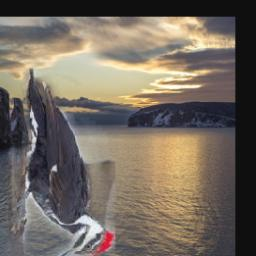Woodpecker: (8, 69, 115, 256)
